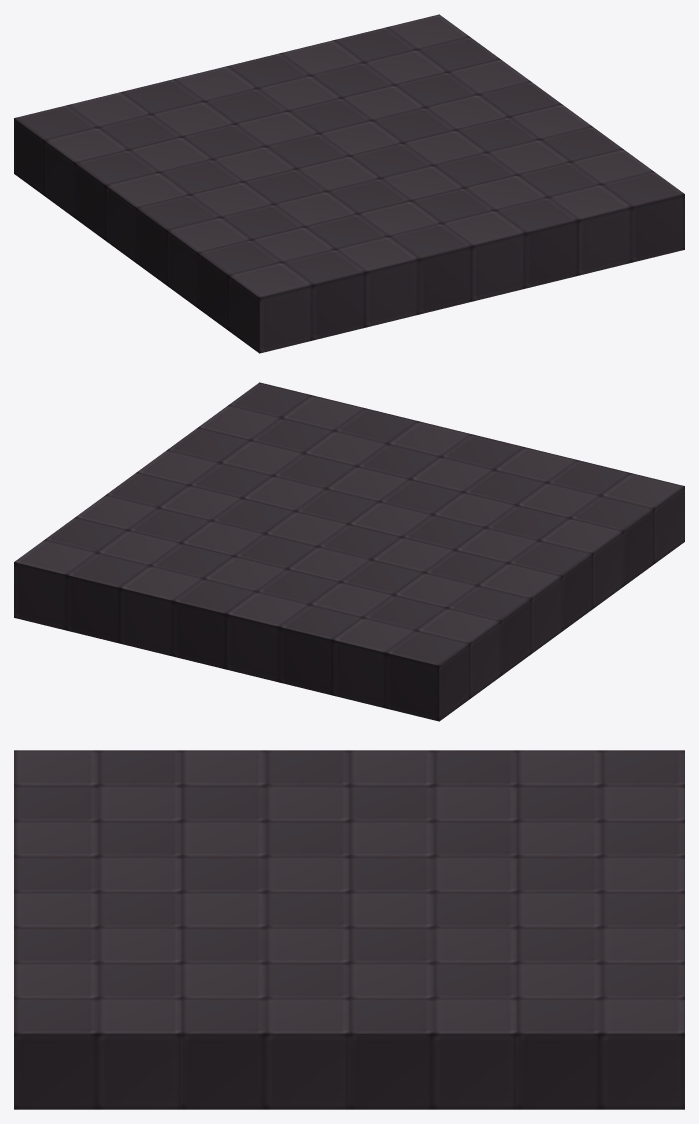
Rendered from ground_block_8x1x8.fbx.
The picture shows the model from 3 angles, top to bottom: view 1: azimuth 30°, elevation 25°; view 2: azimuth 150°, elevation 25°; view 3: azimuth 270°, elevation 25°; orthographic projection. The views are drawn at different scales.
Parts seen in each view (by area): view 1: ground_block_8x1x8; view 2: ground_block_8x1x8; view 3: ground_block_8x1x8.
Part boxes in pixels (x1=…): ground_block_8x1x8: x1=14, y1=14, x2=684, y2=353; ground_block_8x1x8: x1=14, y1=382, x2=684, y2=721; ground_block_8x1x8: x1=14, y1=750, x2=684, y2=1109.
Size of the model in its own units: 800 by 100 by 800.
